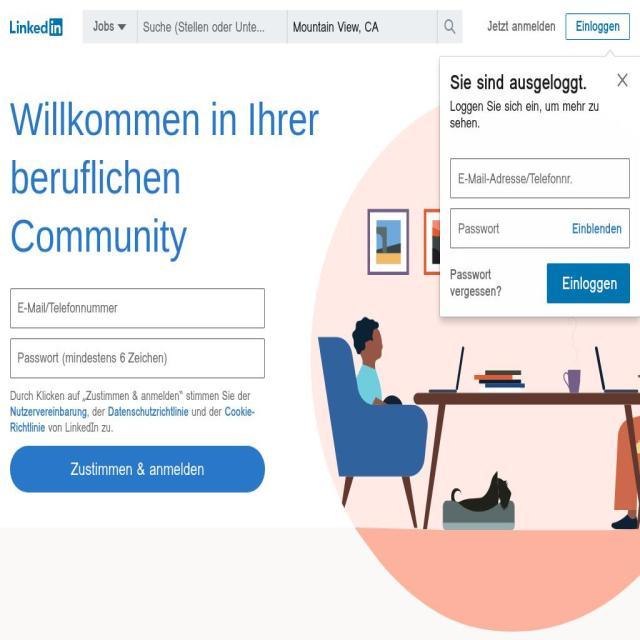button: (10, 446, 265, 492), (547, 264, 630, 304), (450, 267, 542, 300), (564, 208, 630, 250), (482, 13, 561, 40), (82, 10, 138, 43), (566, 13, 630, 40), (608, 60, 638, 100), (10, 17, 62, 36), (437, 10, 462, 43)
field: (10, 288, 265, 328), (10, 338, 265, 378), (450, 158, 630, 198), (450, 208, 564, 248), (137, 10, 267, 43), (287, 10, 417, 43)
heading: (10, 90, 351, 265), (450, 98, 630, 132), (450, 70, 630, 95)
image: (296, 86, 640, 640), (10, 17, 62, 36), (114, 16, 129, 36), (442, 16, 457, 36), (615, 70, 630, 90)
label: (10, 288, 265, 328), (10, 338, 265, 378), (450, 158, 630, 198), (450, 208, 630, 248)
link: (10, 402, 255, 437), (108, 402, 188, 421), (10, 402, 87, 421)
text: (10, 387, 250, 405), (45, 418, 114, 437), (188, 402, 224, 421), (94, 16, 115, 36), (86, 402, 108, 421)
